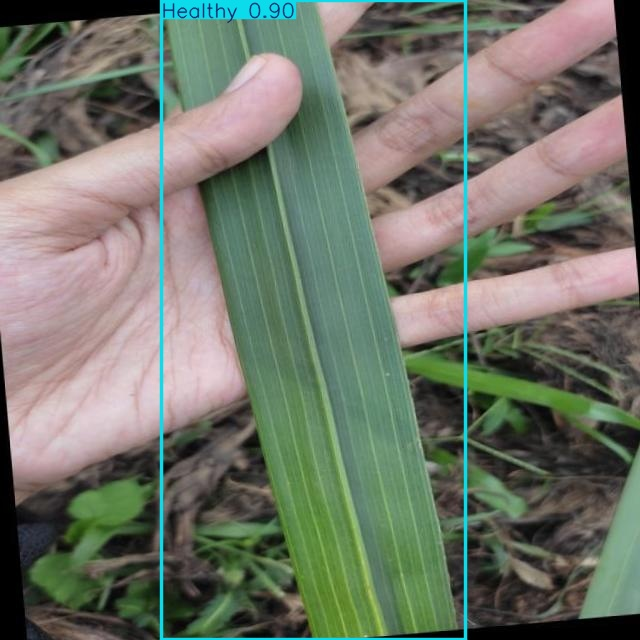Healthy: (161, 0, 465, 640)
